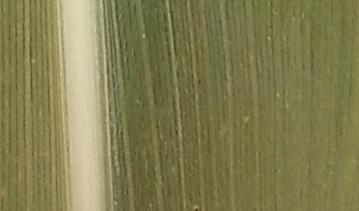tarspot: (196, 79, 203, 85), (193, 206, 199, 211)
